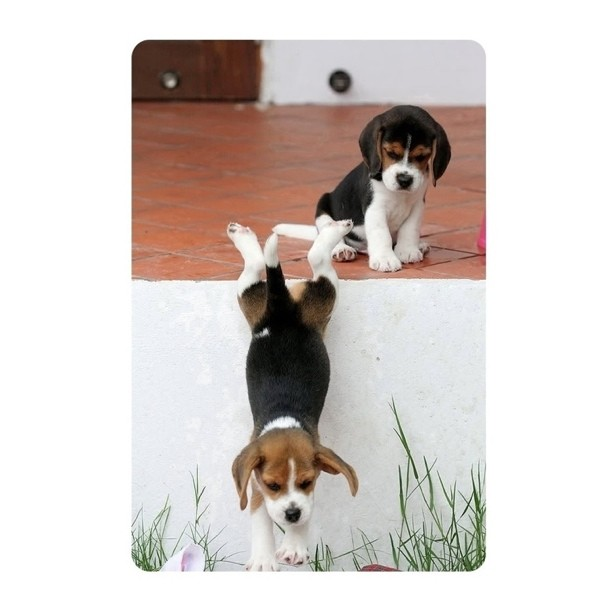animal: (185, 221, 382, 535), (304, 99, 449, 285)
